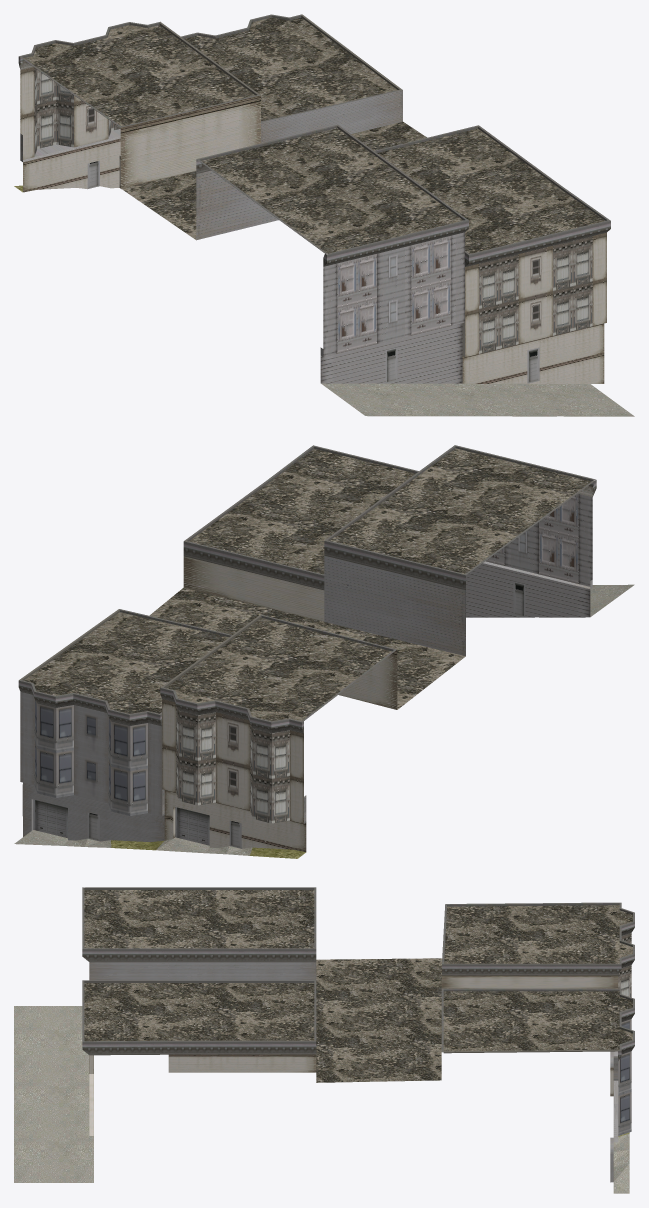
File: newvic1_sfw69.obj
The picture shows the model from 3 angles, top to bottom: view 1: azimuth 30°, elevation 25°; view 2: azimuth 150°, elevation 25°; view 3: azimuth 270°, elevation 25°; orthographic projection. The views are drawn at different scales.
Visible parts, largest first — view 1: newvic1_sfw69; view 2: newvic1_sfw69; view 3: newvic1_sfw69.
Part boxes in pixels (left/top/right/bottom): newvic1_sfw69: left=14, top=14, right=634, bottom=416; newvic1_sfw69: left=14, top=445, right=634, bottom=858; newvic1_sfw69: left=14, top=887, right=634, bottom=1193.
Size of the model in its own units: 37.56 by 25.68 by 77.78.
Materials: 21 (21 with a texture image).
